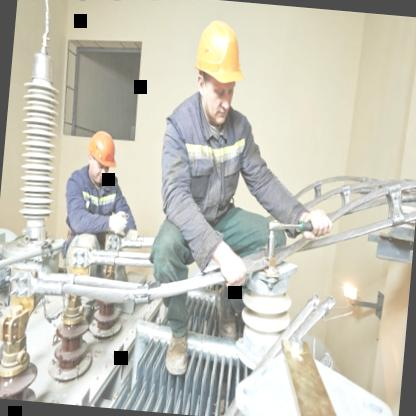helmet: (180, 6, 254, 132), (80, 122, 122, 186)
